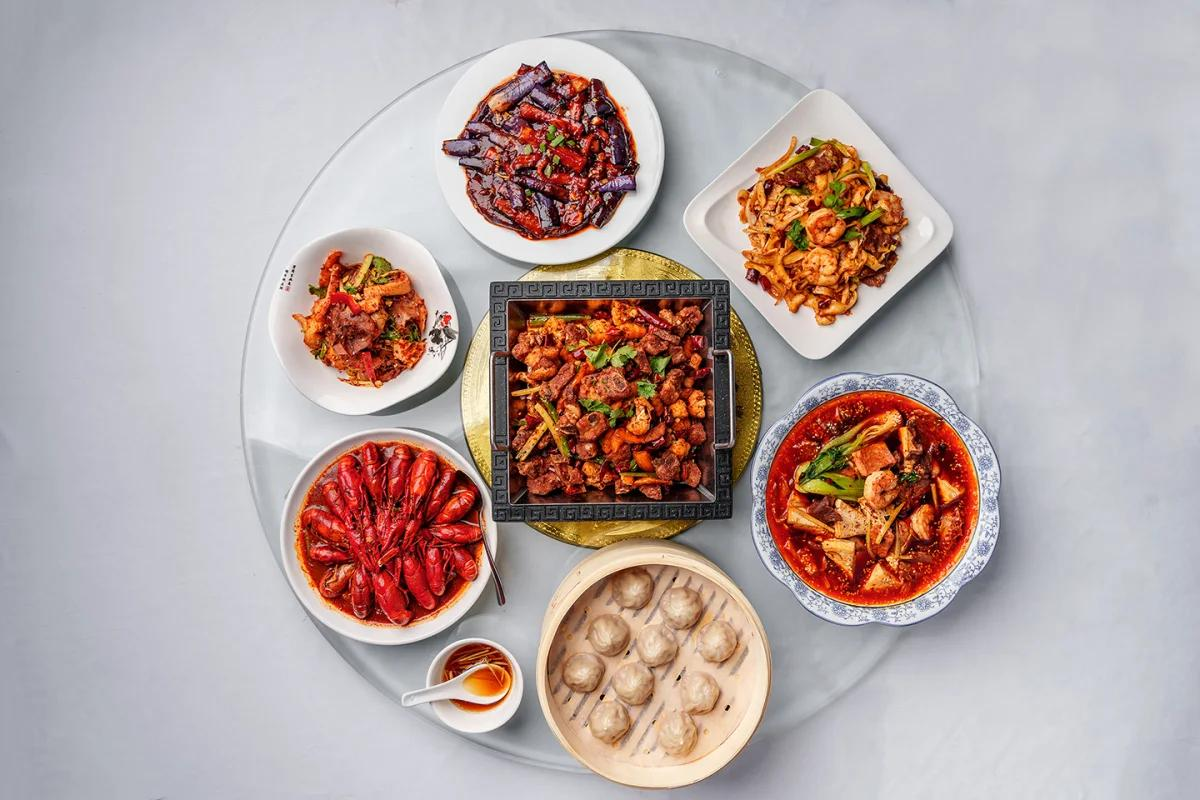Braised Crucian Carp: (459, 252, 753, 547), (685, 87, 940, 354), (749, 372, 1000, 622), (535, 541, 771, 783), (432, 36, 660, 265), (279, 430, 494, 643), (268, 228, 458, 413)
